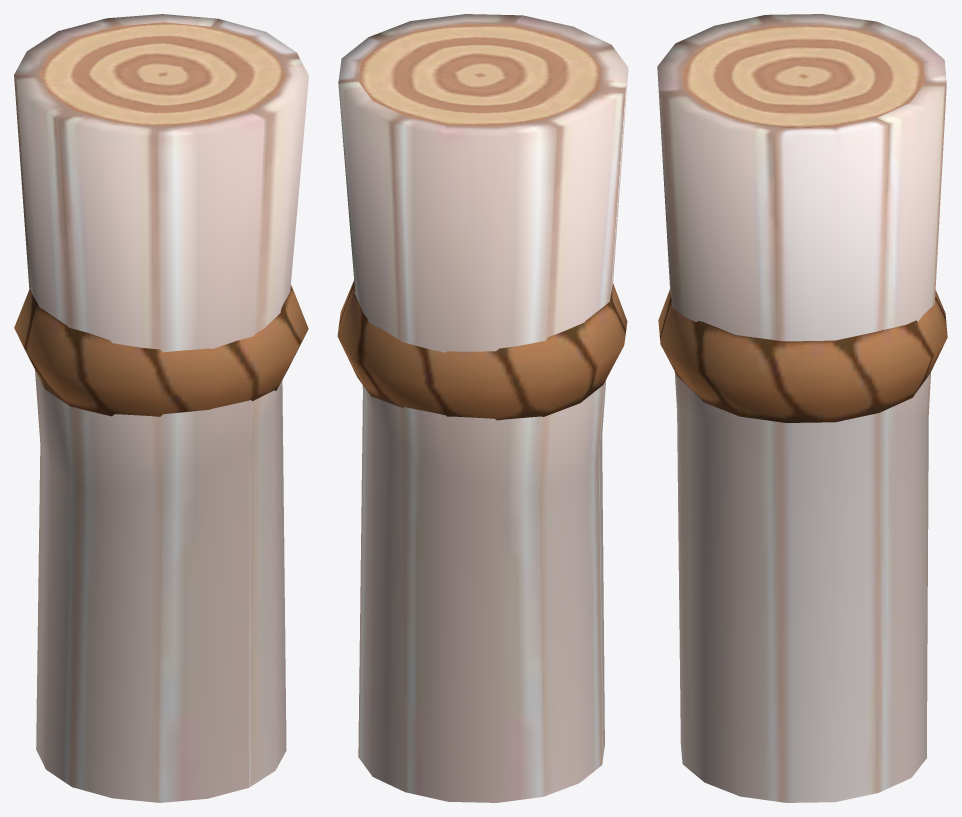
Rendered from PierBeam2.fbx.
3 views of the same model, side by side, from view 1: azimuth 30°, elevation 25°; view 2: azimuth 150°, elevation 25°; view 3: azimuth 270°, elevation 25° (orthographic).
Parts seen in each view (by area): view 1: PierBeam, Rope; view 2: PierBeam, Rope; view 3: PierBeam, Rope.
Boxes of the visible parts, x1,y1,x2,y2 form: PierBeam: [14, 14, 308, 802]; Rope: [14, 285, 308, 416]; PierBeam: [338, 14, 628, 802]; Rope: [337, 280, 627, 420]; PierBeam: [657, 14, 946, 802]; Rope: [658, 289, 947, 422].
Bounding box in the file's own units: 0.6776 × 1.74 × 0.6785.
